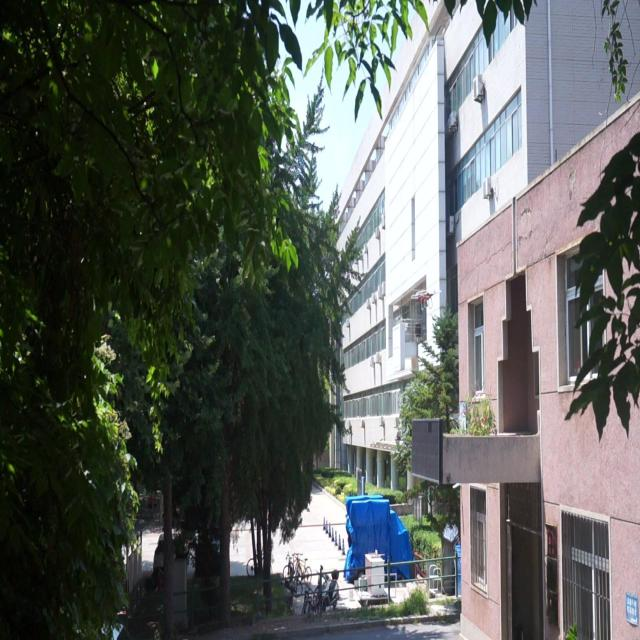drone: (408, 280, 444, 317)
